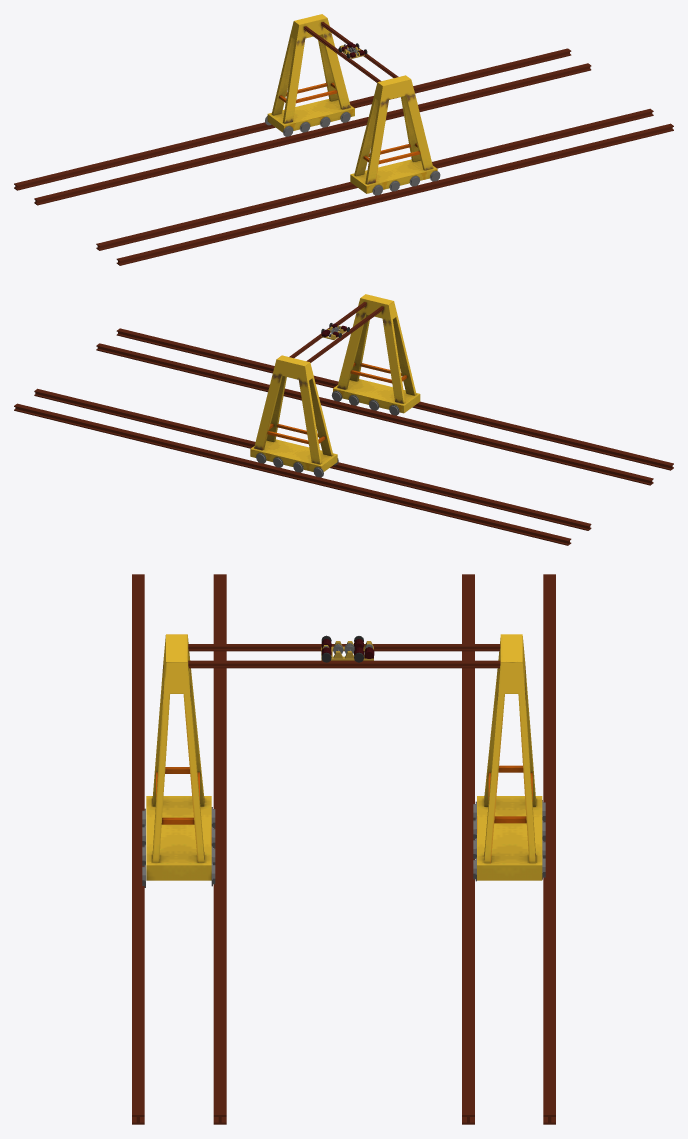
The model's file is Crane base.fbx.
3 views of the same model, one above another, from view 1: azimuth 30°, elevation 25°; view 2: azimuth 150°, elevation 25°; view 3: azimuth 270°, elevation 25° (orthographic). The views are drawn at different scales.
Parts seen in each view (by area): view 1: CraneScaffold, Cube.016, Cube.029, Cube.026, Cube.028, Cube.027, Cube; view 2: Cube.016, CraneScaffold, Cube.027, Cube.028, Cube.026, Cube.029, Cube; view 3: Cube.016, CraneScaffold, Cube.028, Cube.027, Cube.029, Cube.026, Cube.001, Cube.
Part boxes in pixels (x1=…): CraneScaffold: x1=350, y1=75, x2=437, y2=193; Cube.016: x1=267, y1=14, x2=354, y2=132; Cube.029: x1=116, y1=123, x2=673, y2=265; Cube.026: x1=34, y1=63, x2=591, y2=205; Cube.028: x1=96, y1=108, x2=653, y2=250; Cube.027: x1=14, y1=48, x2=571, y2=190; Cube: x1=304, y1=26, x2=381, y2=82; Cube.016: x1=250, y1=355, x2=337, y2=471; CraneScaffold: x1=333, y1=294, x2=420, y2=413; Cube.027: x1=14, y1=403, x2=571, y2=545; Cube.028: x1=96, y1=343, x2=653, y2=485; Cube.026: x1=34, y1=388, x2=591, y2=530; Cube.029: x1=116, y1=328, x2=673, y2=470; Cube: x1=306, y1=306, x2=383, y2=362; Cube.016: x1=477, y1=634, x2=542, y2=880; CraneScaffold: x1=146, y1=634, x2=211, y2=880; Cube.028: x1=213, y1=574, x2=226, y2=1124; Cube.027: x1=543, y1=574, x2=555, y2=1124; Cube.029: x1=132, y1=574, x2=144, y2=1124; Cube.026: x1=462, y1=574, x2=474, y2=1124; Cube.001: x1=188, y1=660, x2=500, y2=668; Cube: x1=188, y1=644, x2=500, y2=651.
Bounding box in the file's own units: 19200 × 3611 × 6363.
